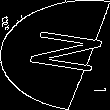N_E: (8, 30, 102, 80)
